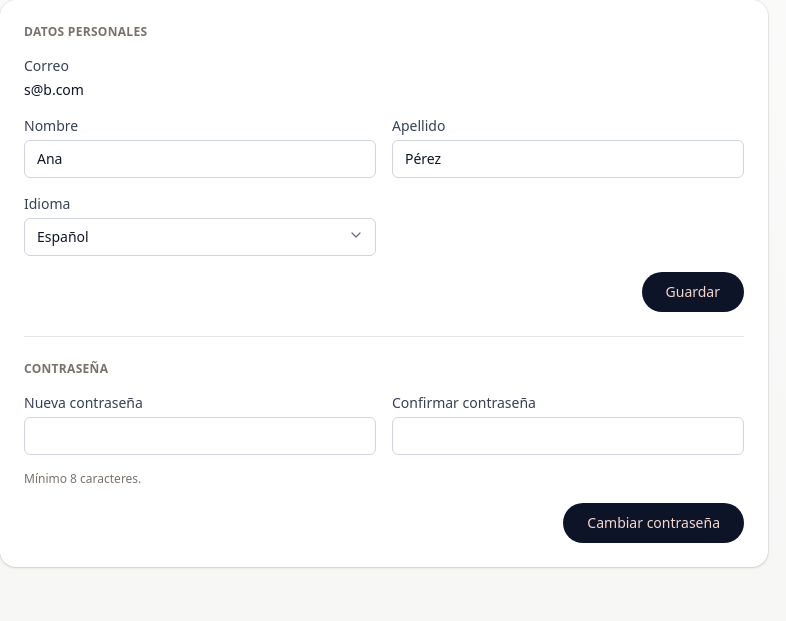
Test: ProfileSection › password › rejects short passwords
Expected: the field labelled "Nombre" is shown, [24,140,376,178]
Type "corta" into the password field labelled "Nueva contraseña" at (200, 436), box [24,417,376,455]
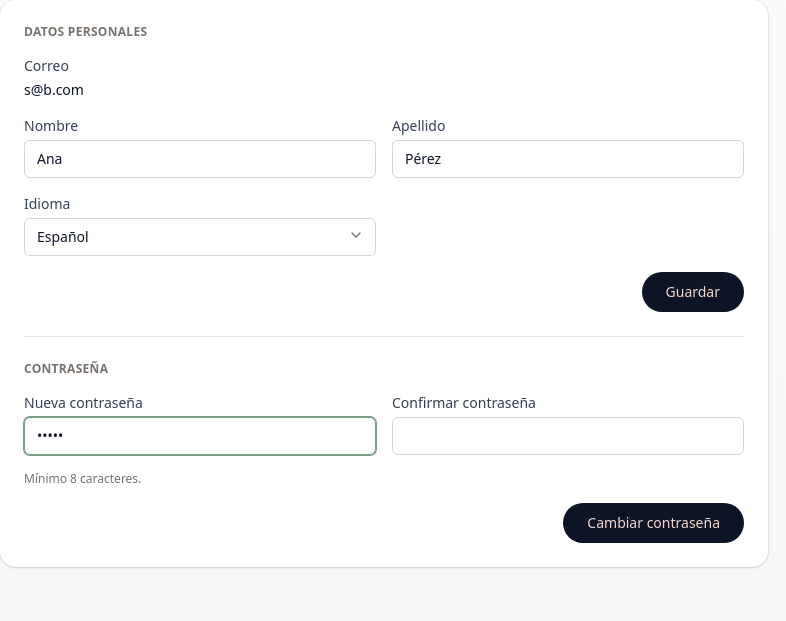
Type "corta" into the password field labelled "Confirmar contraseña" at (568, 436), box [392,417,744,455]
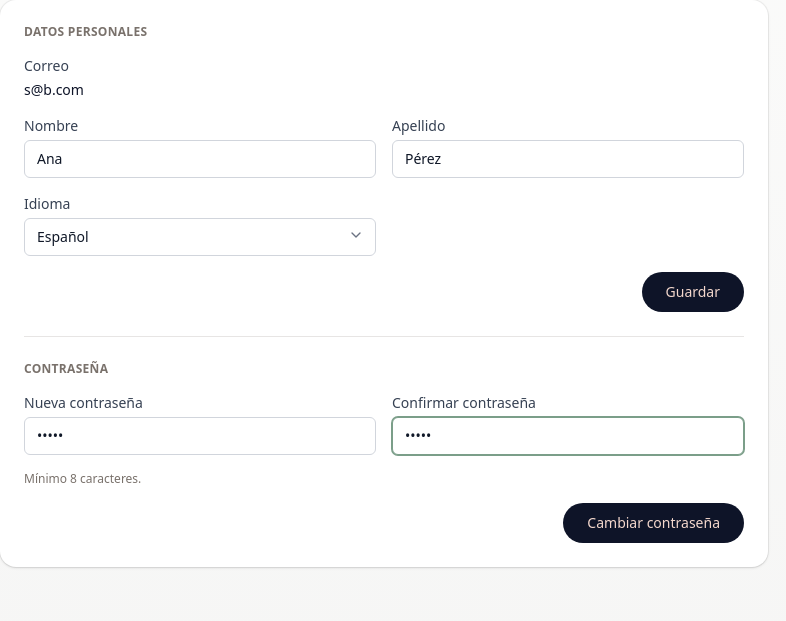
Click the button "Cambiar contraseña" at (654, 523), box [563,503,744,543]
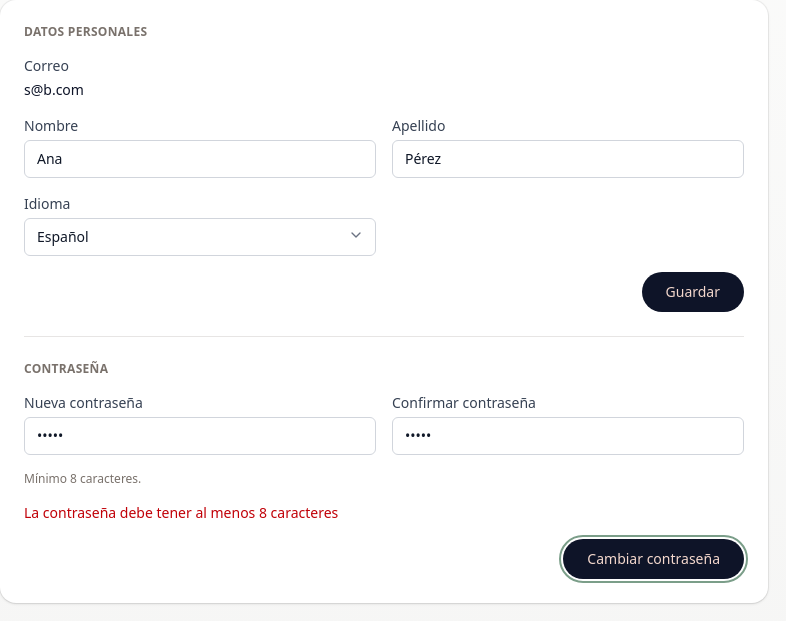
Result: the form named "Cambiar contraseña" shows "al menos 8 caracteres" at [24,503,338,522]
